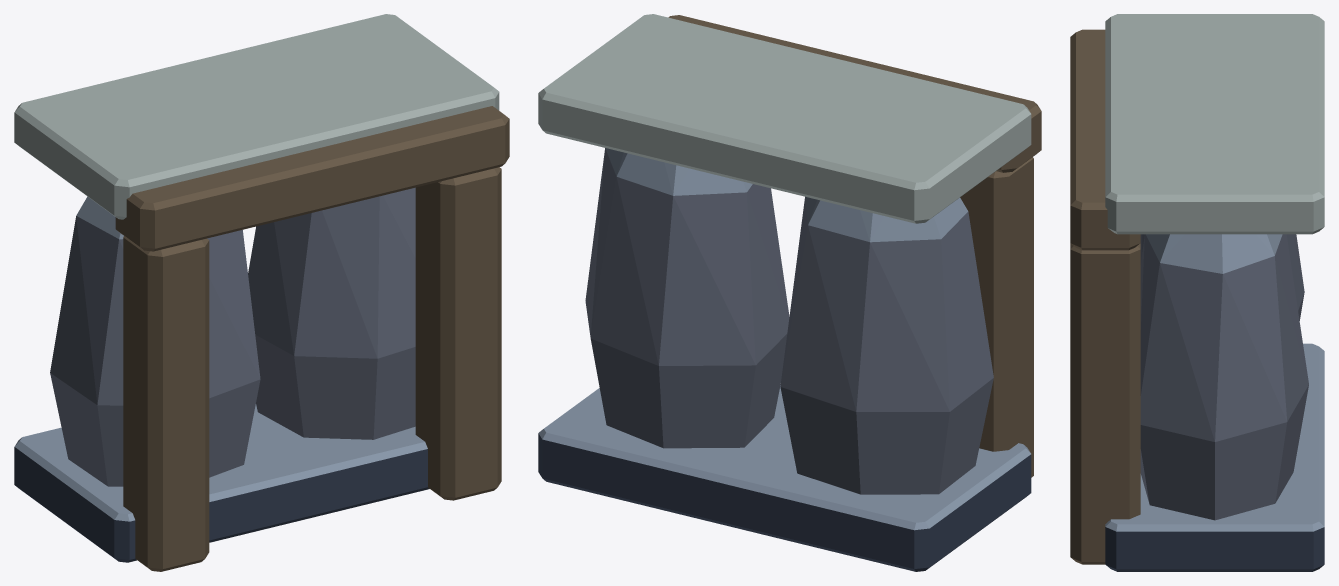
File: wall-short.glb
3 views of the same model, side by side, from view 1: azimuth 30°, elevation 25°; view 2: azimuth 150°, elevation 25°; view 3: azimuth 270°, elevation 25° (orthographic). The views are drawn at different scales.
Parts seen in each view (by area): view 1: wall-short__body; view 2: wall-short__body; view 3: wall-short__body.
Boxes of the visible parts, box(x1,y1,x2,y2) form: wall-short__body: box(14, 14, 509, 571); wall-short__body: box(538, 14, 1041, 571); wall-short__body: box(1070, 14, 1324, 571).
Size of the model in its own units: 1.01 by 0.95 by 0.58.
